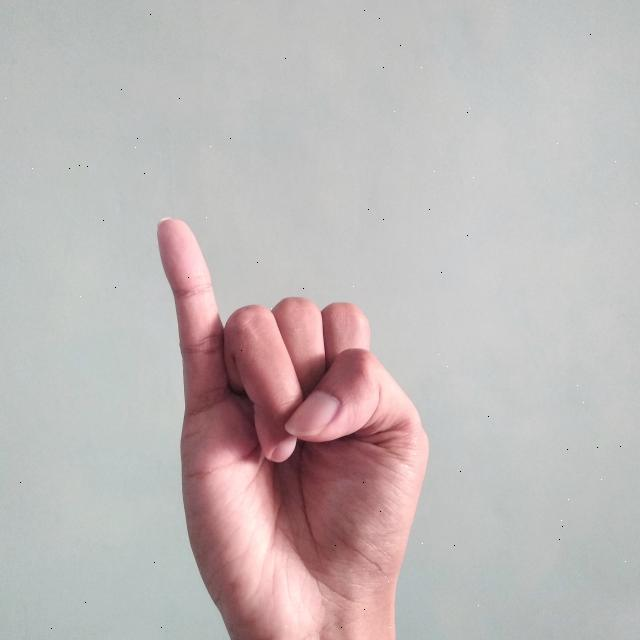I: (156, 215, 434, 640)
